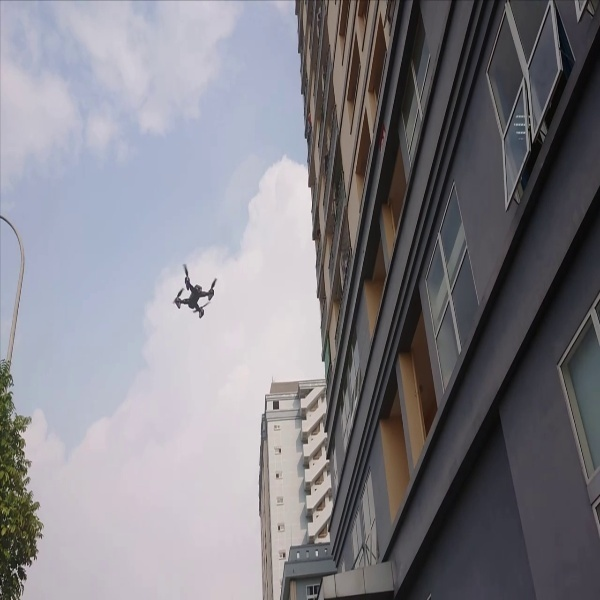drone: (165, 254, 220, 329)
